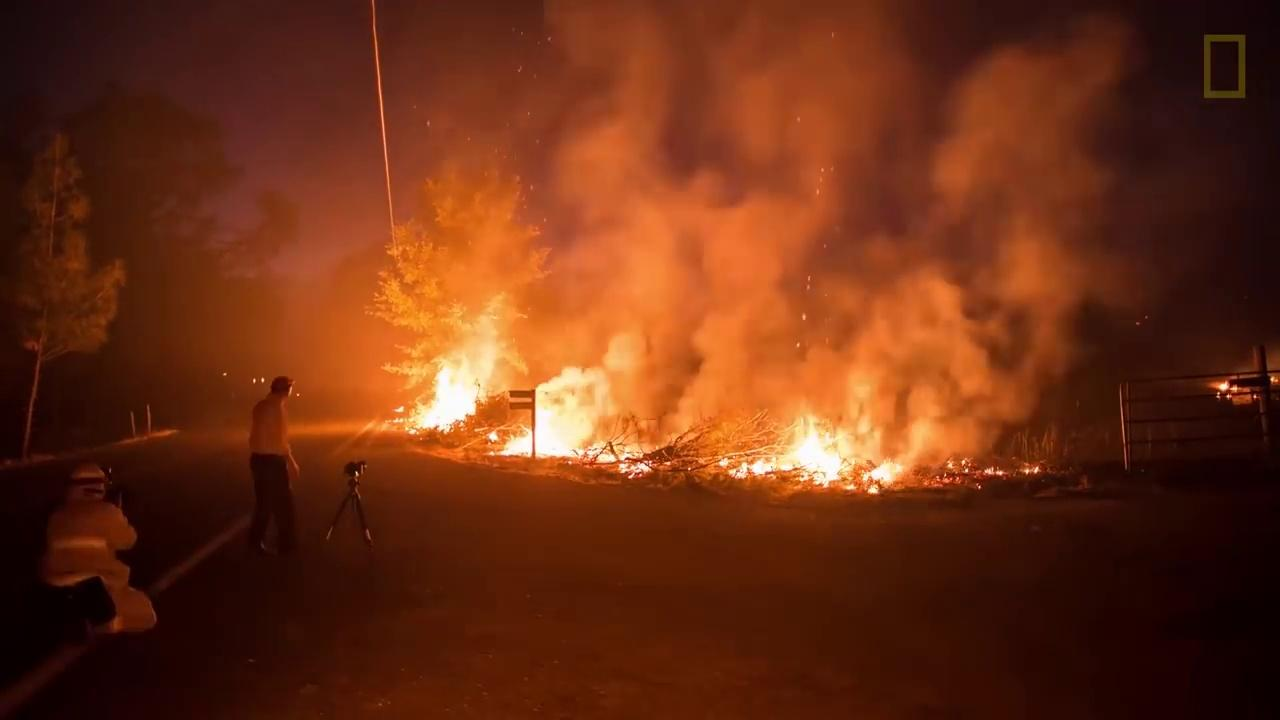Fire: (722, 396, 900, 498), (513, 352, 651, 479), (411, 330, 498, 436), (945, 458, 1044, 477), (1219, 379, 1239, 396)
